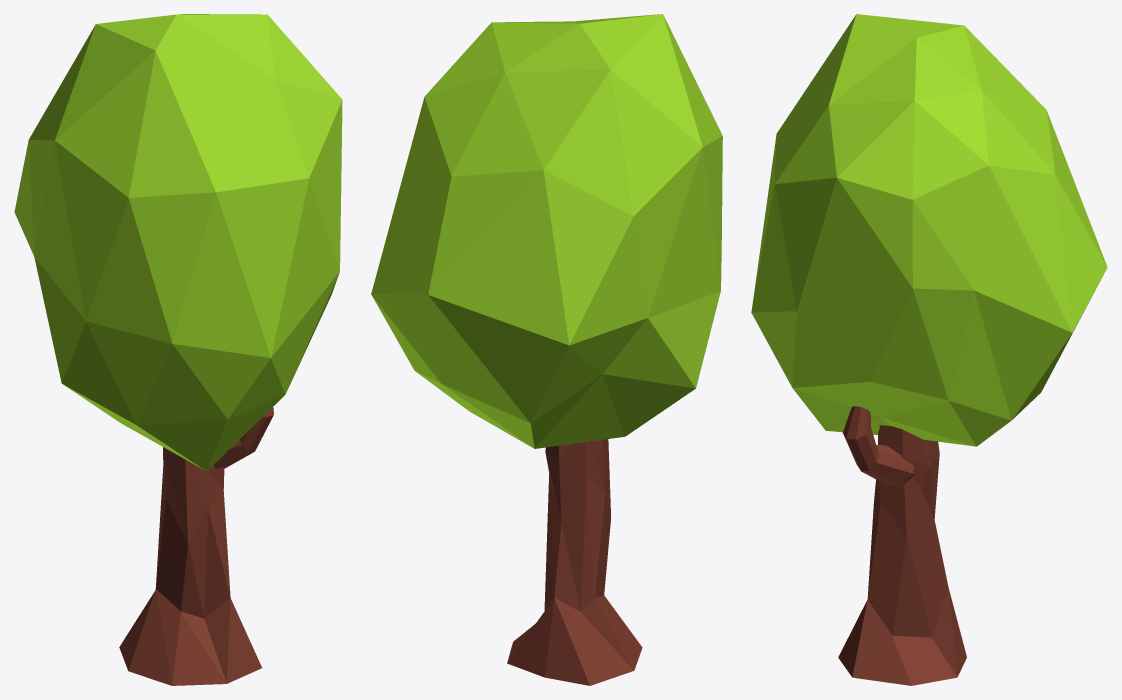
The model's file is object_landscape_tree_coniferous_teenager.glb.
3 renders of one model, left to right at view 1: azimuth 30°, elevation 25°; view 2: azimuth 150°, elevation 25°; view 3: azimuth 270°, elevation 25°, orthographic. The views are drawn at different scales.
Visible parts, largest first — view 1: object_landscape_tree_coniferous_teenager; view 2: object_landscape_tree_coniferous_teenager; view 3: object_landscape_tree_coniferous_teenager.
Boxes of the visible parts, left/top/right/bottom form: object_landscape_tree_coniferous_teenager: left=14, top=14, right=342, bottom=685; object_landscape_tree_coniferous_teenager: left=371, top=14, right=722, bottom=685; object_landscape_tree_coniferous_teenager: left=751, top=14, right=1107, bottom=685.
Bounding box in the file's own units: 0.297 × 0.6524 × 0.3424.
